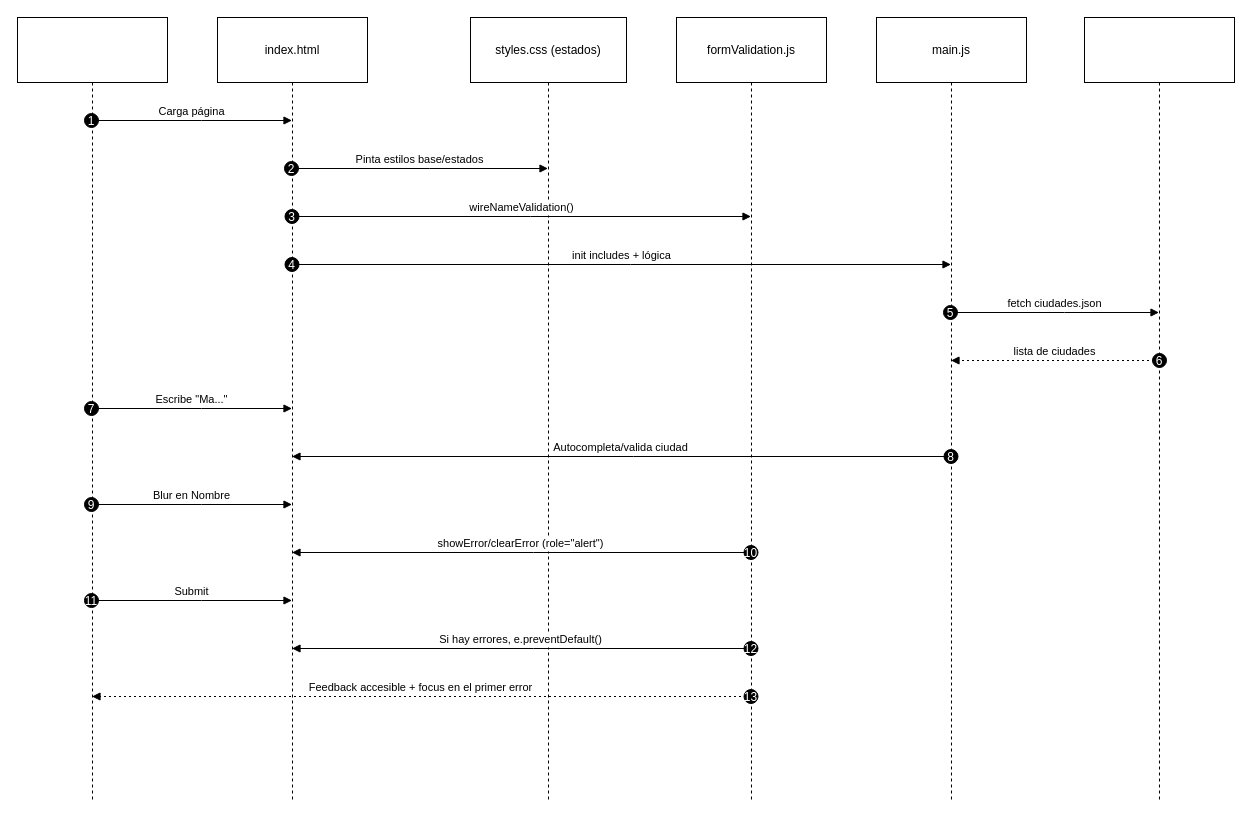
The diagram is 1252 pixels wide and 819 high, and some of its shapes have lost their labels. The shapes that lost their labels are listed below. From the top down, each one's box as (x1, y1, x2, y2) in pixels, then its label:
(16, 16, 168, 802): Usuario
(1084, 16, 1234, 802): ciudades.json
